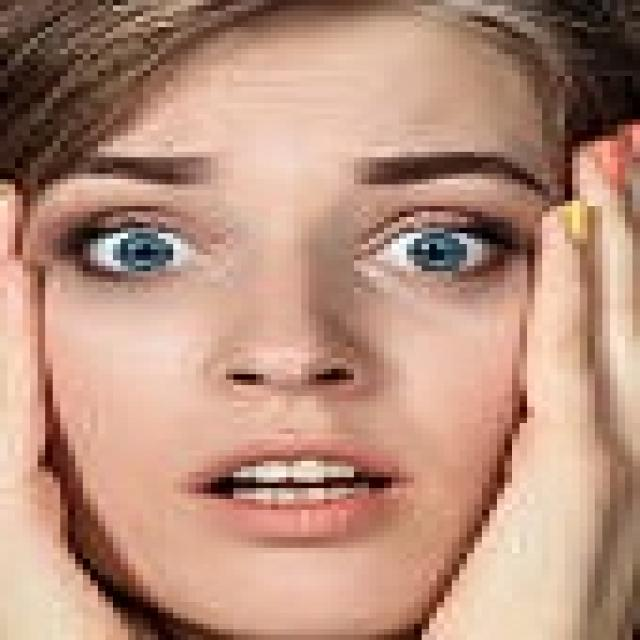Anxiety: (24, 0, 560, 635)
